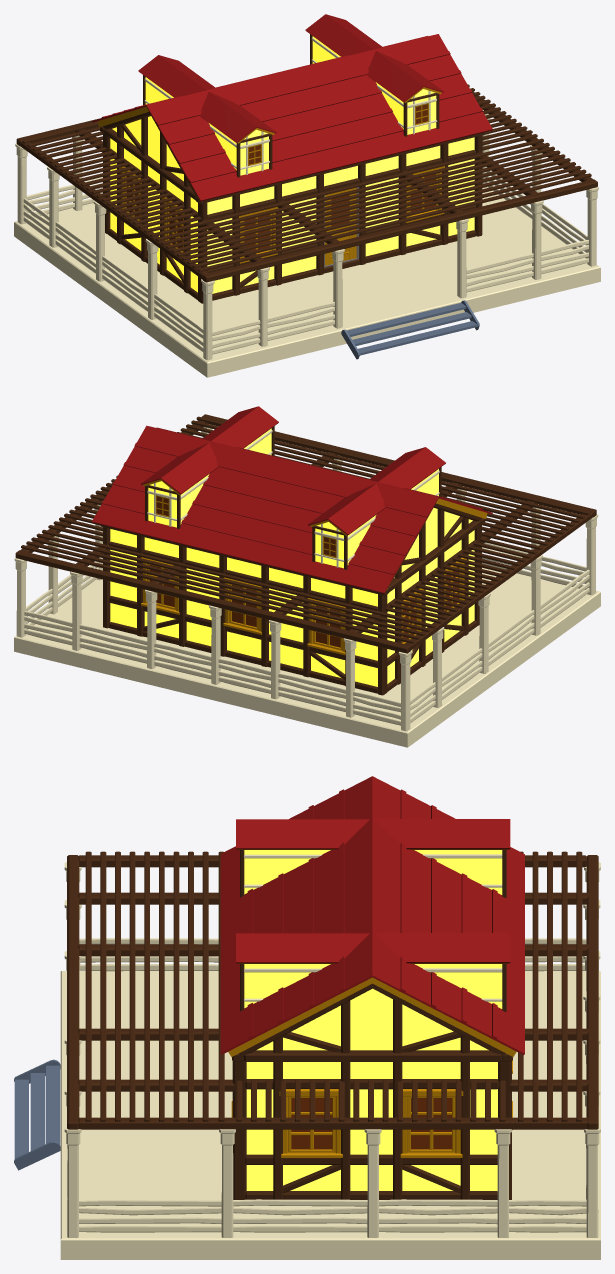
The model's file is house_03.glb.
The picture shows the model from 3 angles, top to bottom: view 1: azimuth 30°, elevation 25°; view 2: azimuth 150°, elevation 25°; view 3: azimuth 270°, elevation 25°; orthographic projection. The views are drawn at different scales.
Visible parts, largest first — view 1: house_05.001; view 2: house_05.001; view 3: house_05.001.
Part boxes in pixels (<box>): house_05.001: <box>14,14,600,377</box>; house_05.001: <box>14,406,600,747</box>; house_05.001: <box>14,776,600,1259</box>.
Size of the model in its own units: 14.35 by 6.34 by 13.24.
